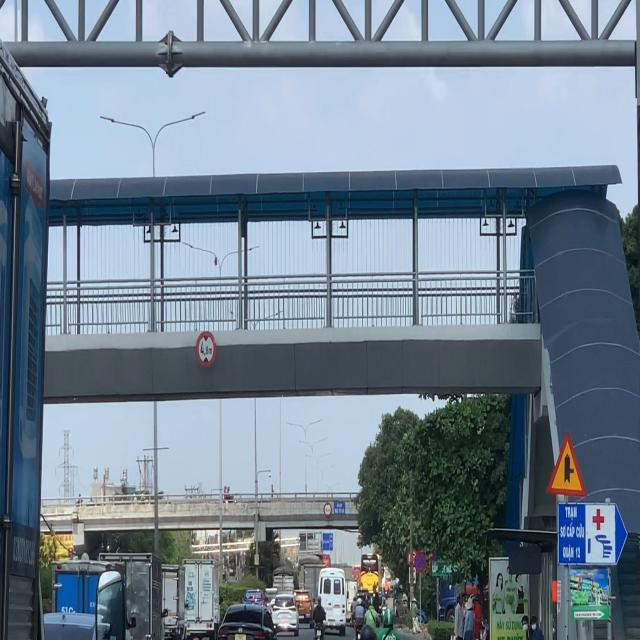Cam dung va do: (414, 551, 426, 572)
Chieu cao toi da: (196, 331, 216, 366), (323, 502, 332, 516)
Giao voi duong khong uu tien: (546, 430, 587, 498)
